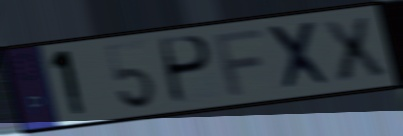1: (46, 47, 88, 120)
5: (103, 37, 159, 113)
F: (211, 26, 266, 98)
P: (160, 33, 216, 107)
X: (263, 19, 337, 94), (317, 14, 391, 85)
